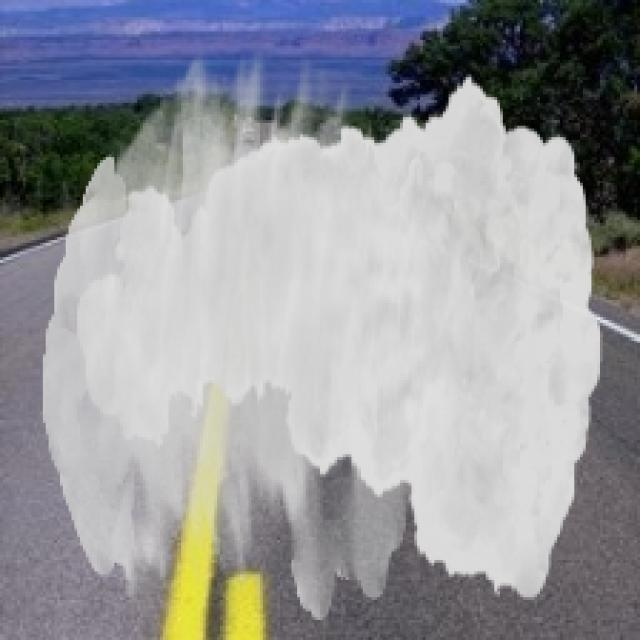Smoke: (43, 51, 603, 620)
